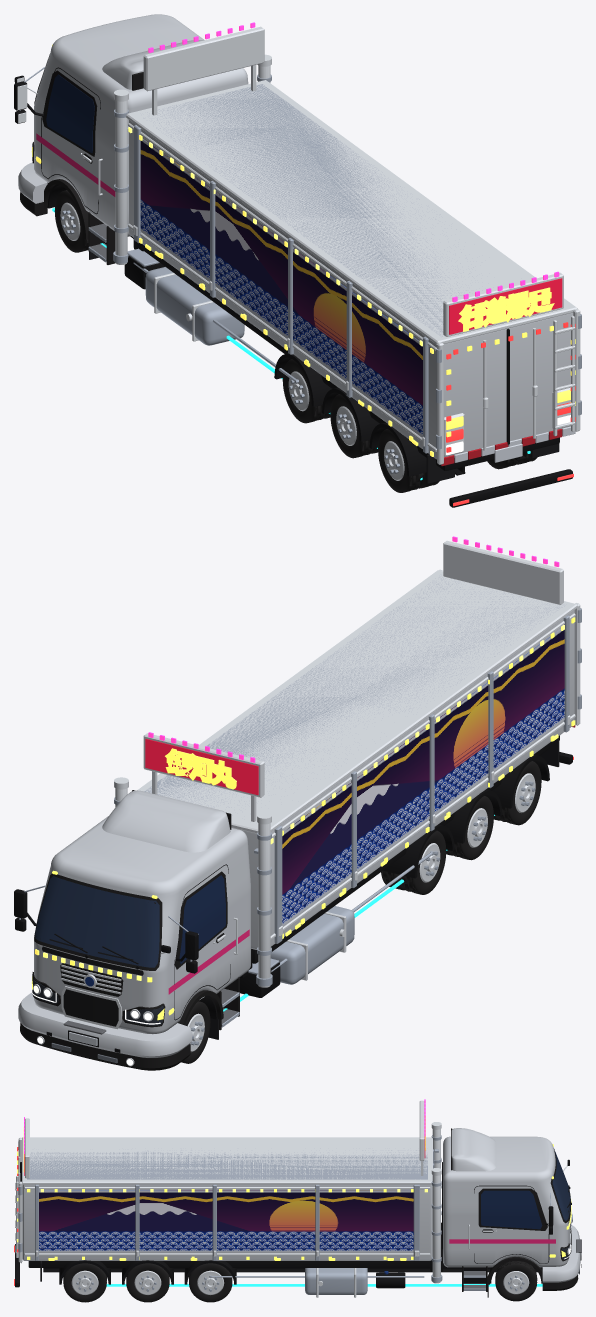
File: dekotora_truck_longo.glb
3 renders of one model, top to bottom at view 1: azimuth 30°, elevation 25°; view 2: azimuth 150°, elevation 25°; view 3: azimuth 270°, elevation 25°, orthographic. The views are drawn at different scales.
Parts seen in each view (by area): view 1: truck_chrome, truck_paint_white_panel, truck_steel, truck_mural, truck_plastic_black, truck_lamp_amber, truck_plastic_trim, truck_glass, wheel_r_L_1.5_1.06, wheel_r_L_3.0_1.06, wheel_r_L_4.5_1.06, truck_andon_panel (+5 smaller); view 2: truck_chrome, truck_paint_white_panel, truck_mural, truck_steel, truck_glass_wind, truck_plastic_black, truck_plastic_trim, truck_lamp_amber, truck_glass, truck_andon_panel, wheel_r_L_1.5_1.06, wheel_r_L_4.5_1.06 (+4 smaller); view 3: truck_mural, truck_chrome, truck_paint_white_panel, truck_steel, truck_plastic_black, truck_glass, truck_plastic_trim, wheel_f_R, wheel_r_R_1.5_1.06, wheel_r_R_3.0_1.06, wheel_r_R_4.5_1.06, truck_lamp_amber (+4 smaller).
Part boxes in pixels (left/top/right/bottom): truck_chrome: left=17, top=26, right=580, bottom=464; truck_paint_white_panel: left=18, top=14, right=573, bottom=459; truck_steel: left=19, top=67, right=581, bottom=453; truck_mural: left=140, top=139, right=422, bottom=436; truck_plastic_black: left=14, top=67, right=572, bottom=507; truck_lamp_amber: left=31, top=44, right=575, bottom=456; truck_plastic_trim: left=20, top=54, right=143, bottom=264; truck_glass: left=46, top=74, right=94, bottom=153; wheel_r_L_1.5_1.06: left=378, top=429, right=424, bottom=492; wheel_r_L_3.0_1.06: left=330, top=394, right=374, bottom=458; wheel_r_L_4.5_1.06: left=282, top=359, right=326, bottom=423; truck_andon_panel: left=449, top=278, right=562, bottom=334; truck_chrome: left=27, top=540, right=580, bottom=1066; truck_paint_white_panel: left=18, top=610, right=574, bottom=1057; truck_mural: left=282, top=629, right=564, bottom=925; truck_steel: left=19, top=577, right=581, bottom=1027; truck_glass_wind: left=35, top=876, right=159, bottom=967; truck_plastic_black: left=14, top=735, right=572, bottom=1052; truck_plastic_trim: left=20, top=790, right=239, bottom=1070; truck_lamp_amber: left=31, top=617, right=575, bottom=1020; truck_glass: left=179, top=875, right=225, bottom=963; truck_andon_panel: left=145, top=739, right=258, bottom=795; wheel_r_L_1.5_1.06: left=497, top=761, right=541, bottom=825; wheel_r_L_4.5_1.06: left=400, top=830, right=446, bottom=894; truck_mural: left=39, top=1190, right=413, bottom=1252; truck_chrome: left=15, top=1100, right=578, bottom=1297; truck_paint_white_panel: left=22, top=1128, right=580, bottom=1282; truck_steel: left=18, top=1135, right=551, bottom=1294; truck_plastic_black: left=15, top=1159, right=581, bottom=1288; truck_glass: left=481, top=1190, right=542, bottom=1229; truck_plastic_trim: left=451, top=1128, right=579, bottom=1291; wheel_f_R: left=495, top=1261, right=537, bottom=1301; wheel_r_R_1.5_1.06: left=63, top=1263, right=106, bottom=1302; wheel_r_R_3.0_1.06: left=126, top=1263, right=169, bottom=1302; wheel_r_R_4.5_1.06: left=189, top=1263, right=232, bottom=1302; truck_lamp_amber: left=17, top=1116, right=571, bottom=1260.
Bounding box in the file's own units: 3.32 × 4.35 × 13.57.
Materials: 26 (9 with a texture image).
